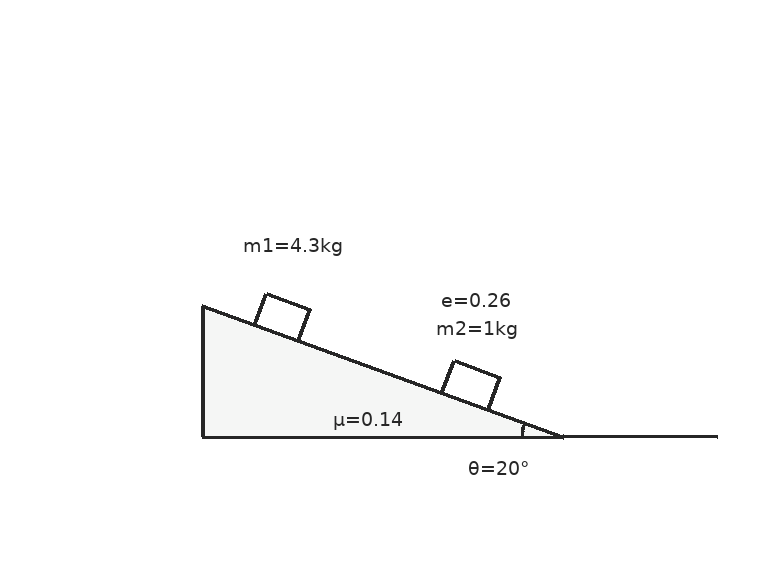block: (440, 358, 502, 412), (252, 291, 311, 343)
ramp: (200, 304, 564, 439)
